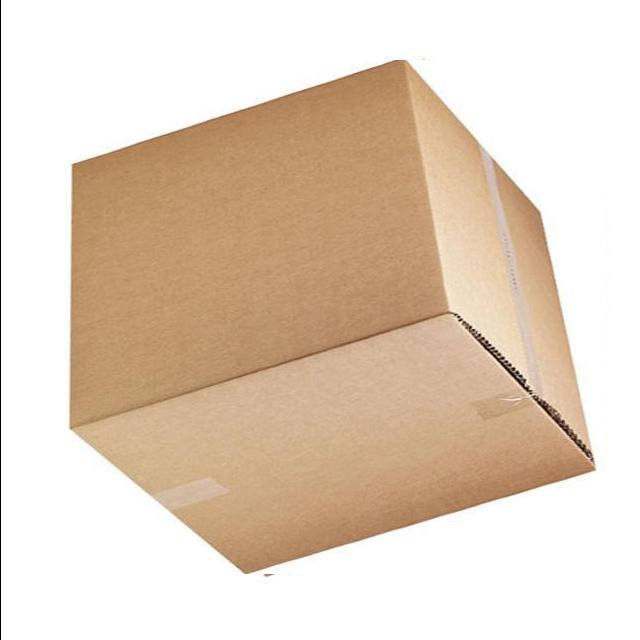normal: (64, 60, 604, 574)
